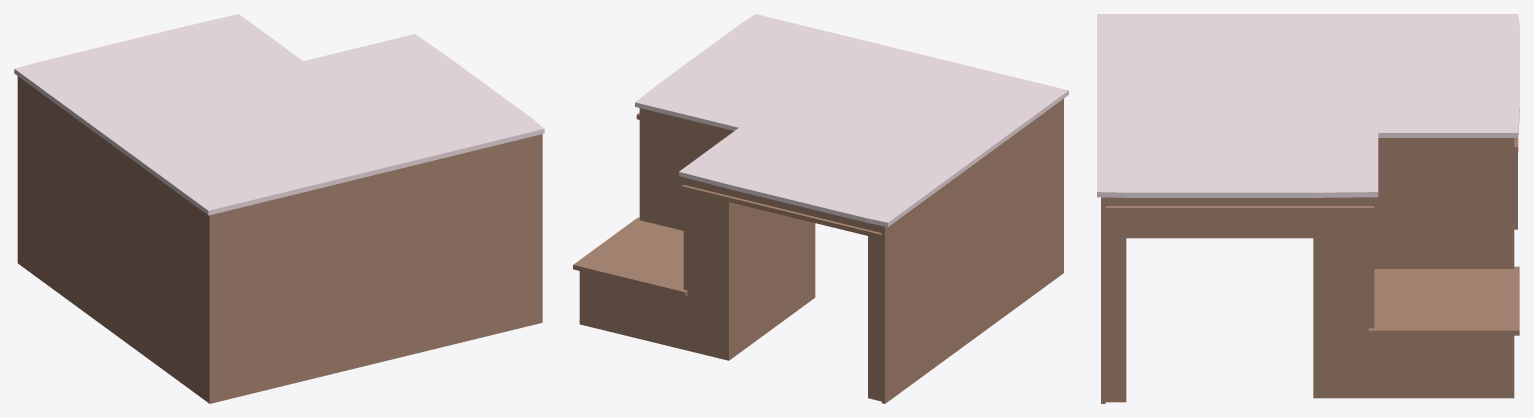
Rendered from SM_counter_part_01.fbx.
The picture shows the model from 3 angles, left to right: view 1: azimuth 30°, elevation 25°; view 2: azimuth 150°, elevation 25°; view 3: azimuth 270°, elevation 25°; orthographic projection. The views are drawn at different scales.
Parts seen in each view (by area): view 1: counter_part_01; view 2: counter_part_01; view 3: counter_part_01.
Boxes of the visible parts, <box> form: counter_part_01: <box>14,14,544,403</box>; counter_part_01: <box>573,14,1068,403</box>; counter_part_01: <box>1097,14,1519,403</box>.
Bounding box in the file's own units: 171 × 94.48 × 171.
